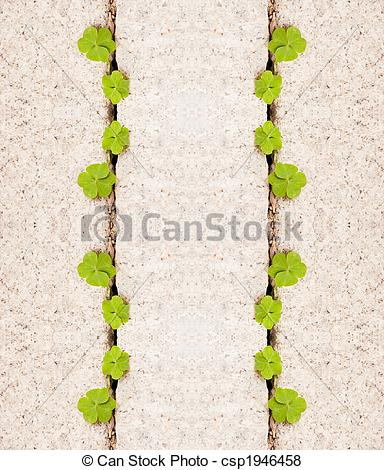oxalis: (246, 58, 296, 112), (78, 17, 123, 71), (265, 241, 315, 288), (272, 156, 318, 207), (263, 18, 309, 69), (72, 160, 124, 201), (251, 343, 298, 385), (252, 293, 287, 336), (91, 344, 136, 376), (73, 392, 119, 423), (270, 388, 307, 424), (251, 116, 287, 153), (80, 255, 118, 284), (100, 123, 131, 155), (104, 71, 129, 106), (103, 302, 129, 325)
